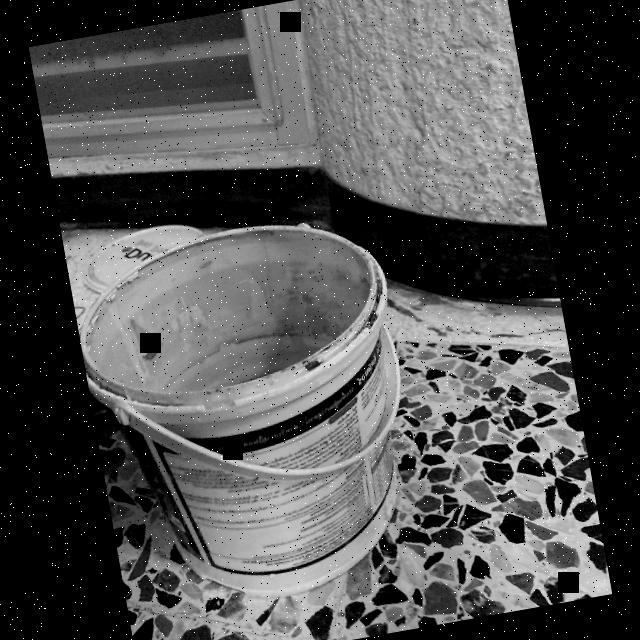paint_bucket: (66, 202, 438, 624)
